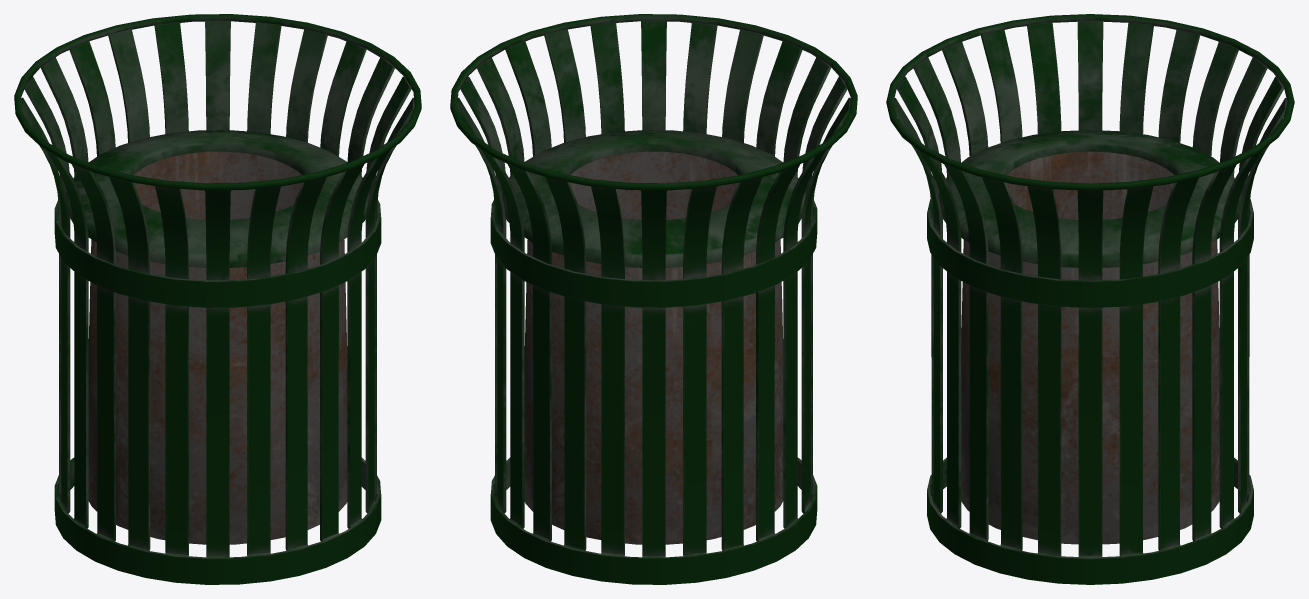
The model's file is city_park_trash_bin_garbage_can_game_ready.glb.
3 renders of one model, left to right at view 1: azimuth 30°, elevation 25°; view 2: azimuth 150°, elevation 25°; view 3: azimuth 270°, elevation 25°, orthographic.
Parts seen in each view (by area): view 1: Circle.010; view 2: Circle.010; view 3: Circle.010.
Boxes of the visible parts, bbox=[...] form: Circle.010: bbox=[14, 14, 421, 584]; Circle.010: bbox=[450, 14, 857, 584]; Circle.010: bbox=[886, 14, 1294, 584].
Size of the model in its own units: 0.6484 by 0.7302 by 0.6484.
1 material, 1 textured.
